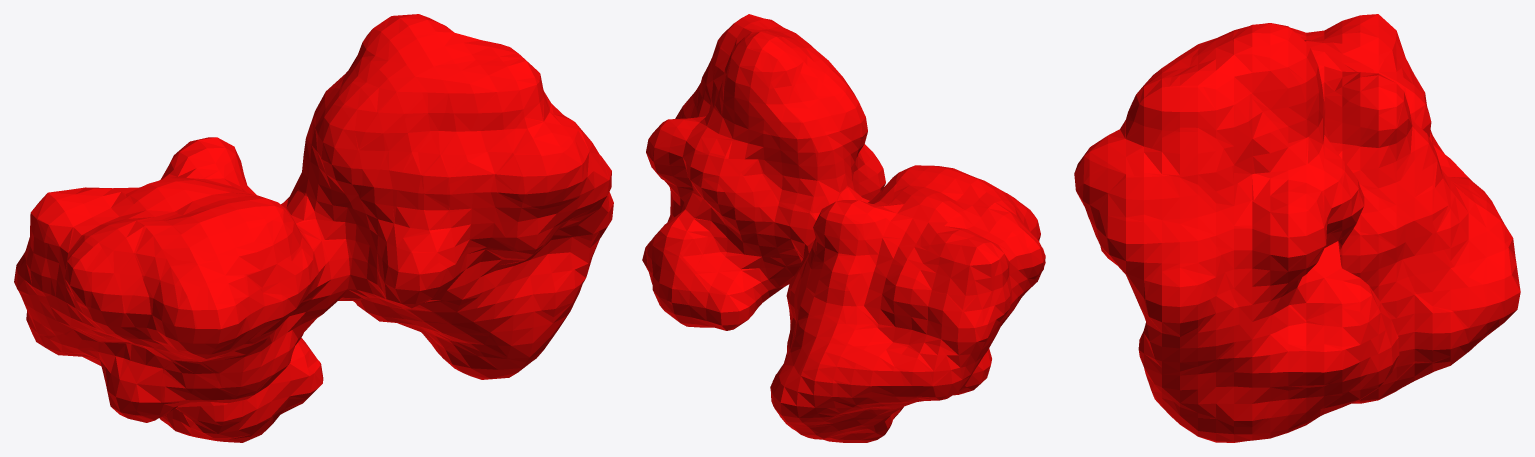
File: Receptor_type_tyrosine_protein_coarse.dae
3 renders of one model, left to right at view 1: azimuth 30°, elevation 25°; view 2: azimuth 150°, elevation 25°; view 3: azimuth 270°, elevation 25°, orthographic. The views are drawn at different scales.
Parts seen in each view (by area): view 1: Receptor_type_tyrosine_protein; view 2: Receptor_type_tyrosine_protein; view 3: Receptor_type_tyrosine_protein.
Part boxes in pixels (<box>): Receptor_type_tyrosine_protein: <box>14,14,613,442</box>; Receptor_type_tyrosine_protein: <box>642,14,1045,442</box>; Receptor_type_tyrosine_protein: <box>1074,14,1520,442</box>.
Size of the model in its own units: 91.15 by 73.3 by 67.05.
